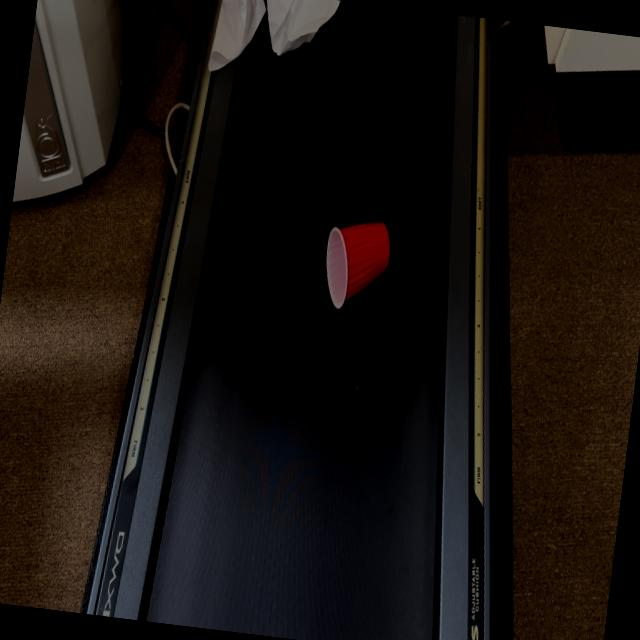Recycle: (322, 193, 408, 318)
